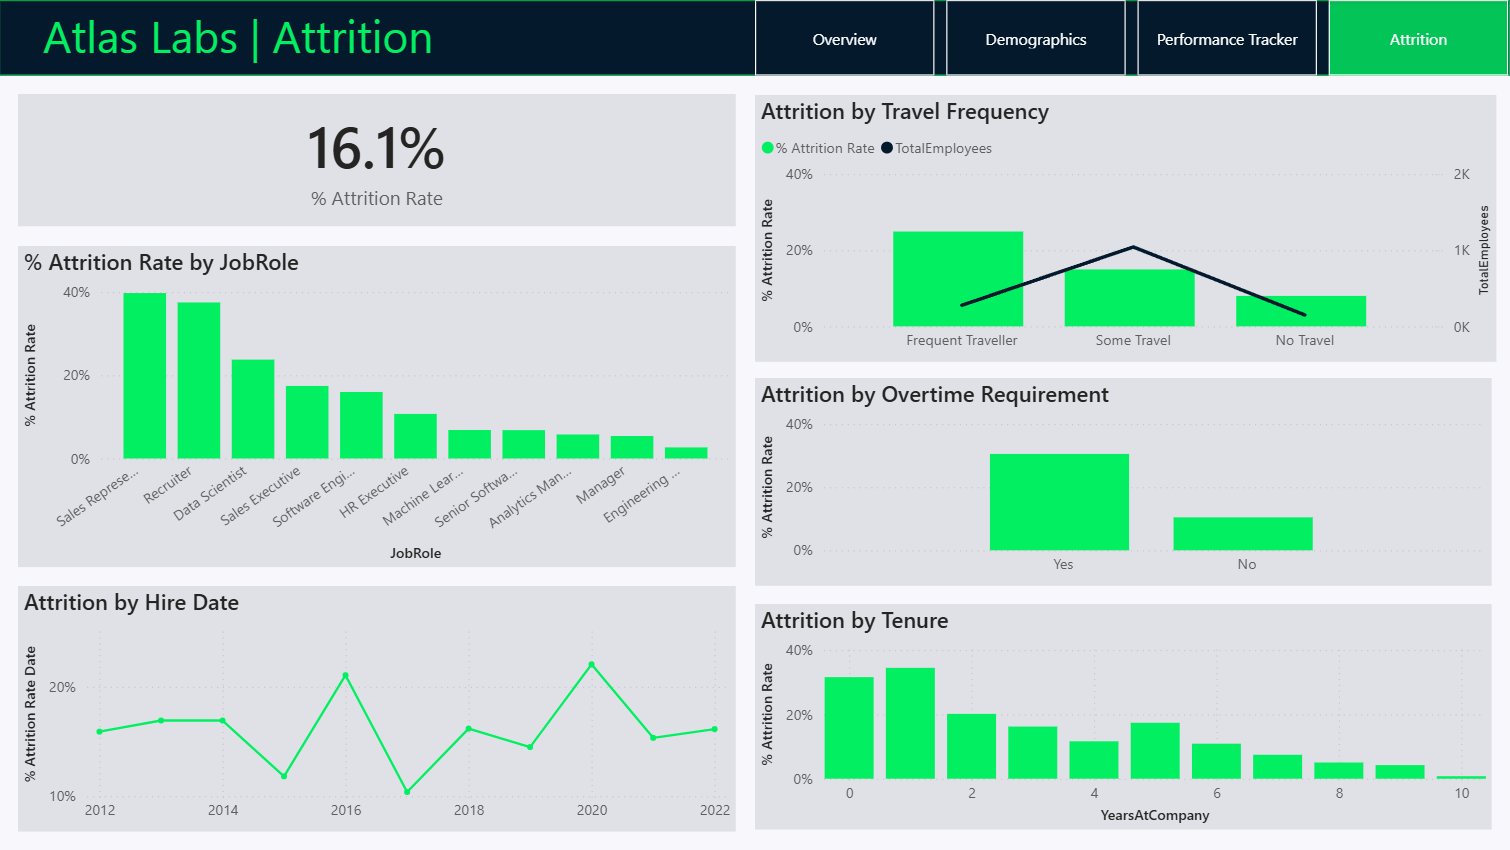

The page's visual inventory and layout, read from the dashboard file:
{"tool":"powerbi","page":{"name":"Attrition","canvas":[1280,720],"ordinal":3},"visuals":[{"type":"cardVisual","fields":{"Data":["_Measures.% Attrition Rate1"]},"box":[16,80,608,112],"z":0},{"type":"clusteredColumnChart","fields":{"Category":["Dim_Employee.Department","Dim_Employee.JobRole"],"Y":["_Measures.% Attrition Rate"]},"box":[16,208,608,272],"z":1000},{"type":"lineChart","title":"Attrition by Hire Date","fields":{"Y":["_Measures.% Attrition Rate Date"],"Category":["DimDate.Date.Variation.Date Hierarchy.Year","DimDate.Date.Variation.Date Hierarchy.Quarter","DimDate.Date.Variation.Date Hierarchy.Month","DimDate.Date.Variation.Date Hierarchy.Day"]},"box":[16.4,496,608.1,208],"z":2000},{"type":"lineStackedColumnComboChart","title":"Attrition by Travel Frequency","fields":{"Category":["Dim_Employee.BusinessTravel"],"Y2":["_Measures.TotalEmployees"],"Y":["_Measures.% Attrition Rate"]},"box":[640,80.2,627.9,226],"z":3000},{"type":"clusteredColumnChart","title":"Attrition by Overtime Requirement","fields":{"Category":["Dim_Employee.OverTime"],"Y":["_Measures.% Attrition Rate"]},"box":[640,320,624,176],"z":4000},{"type":"clusteredColumnChart","title":"Attrition by Tenure","fields":{"Y":["_Measures.% Attrition Rate"],"Category":["Dim_Employee.YearsAtCompany"]},"box":[640,512,624,191],"z":5000},{"type":"shape","box":[0,0,1280,64],"z":6000},{"type":"textbox","box":[32,0,624,64],"z":7000},{"type":"pageNavigator","box":[640,0,640,64],"z":8000}]}

Visuals, with their boxes in screenshot pixels (x1, y1, x2, y2), scaled from the page's 1280x720 canvas onto the 1510x850 screenshot:
cardVisual - _Measures.% Attrition Rate1: bbox=[19, 94, 736, 227]
clusteredColumnChart - Dim_Employee.Department x Dim_Employee.JobRole: bbox=[19, 246, 736, 567]
"Attrition by Hire Date" lineChart: bbox=[19, 586, 737, 831]
"Attrition by Travel Frequency" lineStackedColumnComboChart: bbox=[755, 95, 1496, 361]
"Attrition by Overtime Requirement" clusteredColumnChart: bbox=[755, 378, 1491, 586]
"Attrition by Tenure" clusteredColumnChart: bbox=[755, 604, 1491, 830]
shape: bbox=[0, 0, 1509, 76]
textbox: bbox=[38, 0, 774, 76]
pageNavigator: bbox=[755, 0, 1509, 76]
